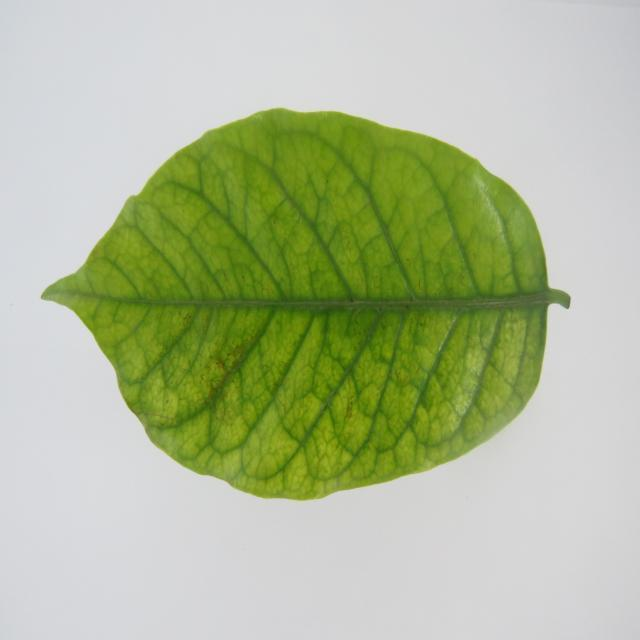DeficienciaNutricional-Hierro: (43, 108, 571, 496)
